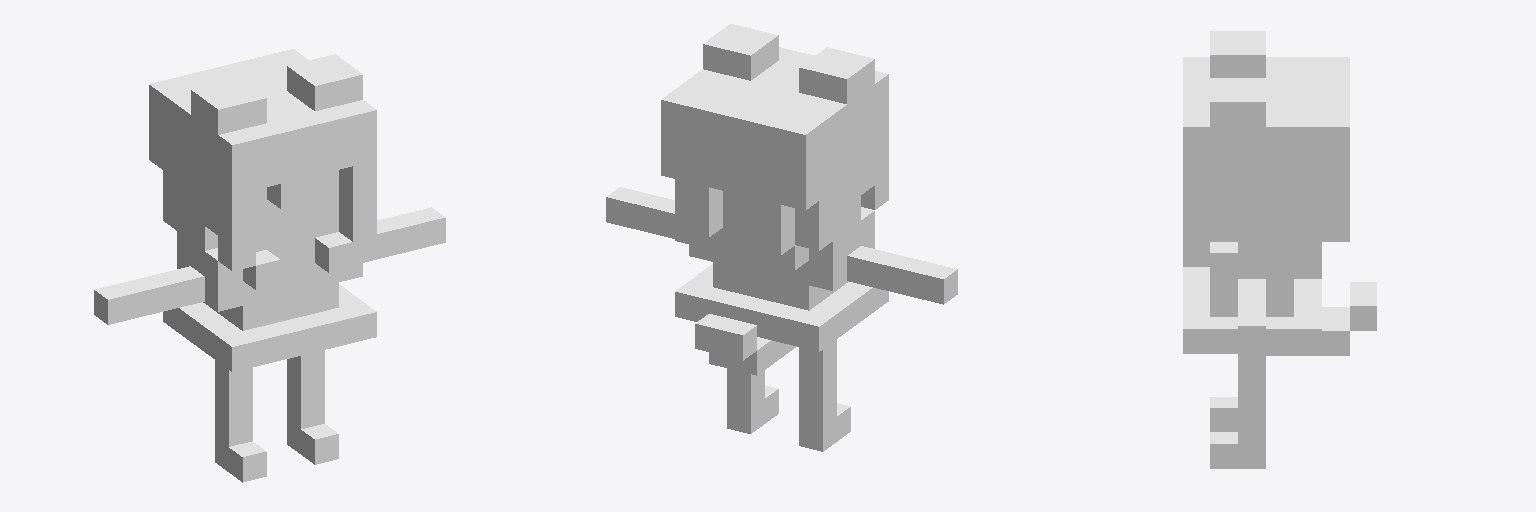
Rendered from Jackie.obj.
The picture shows the model from 3 angles: view 1: azimuth 30°, elevation 25°; view 2: azimuth 150°, elevation 25°; view 3: azimuth 270°, elevation 25°; orthographic projection.
Parts seen in each view (by area): view 1: object 1; view 2: object 1; view 3: object 1.
Part boxes in pixels (x1,y1,x2,y2): object 1: (94, 49, 445, 482); object 1: (606, 24, 957, 451); object 1: (1183, 31, 1376, 468).
Size of the model in its own units: 1.4 by 1.5 by 0.7.